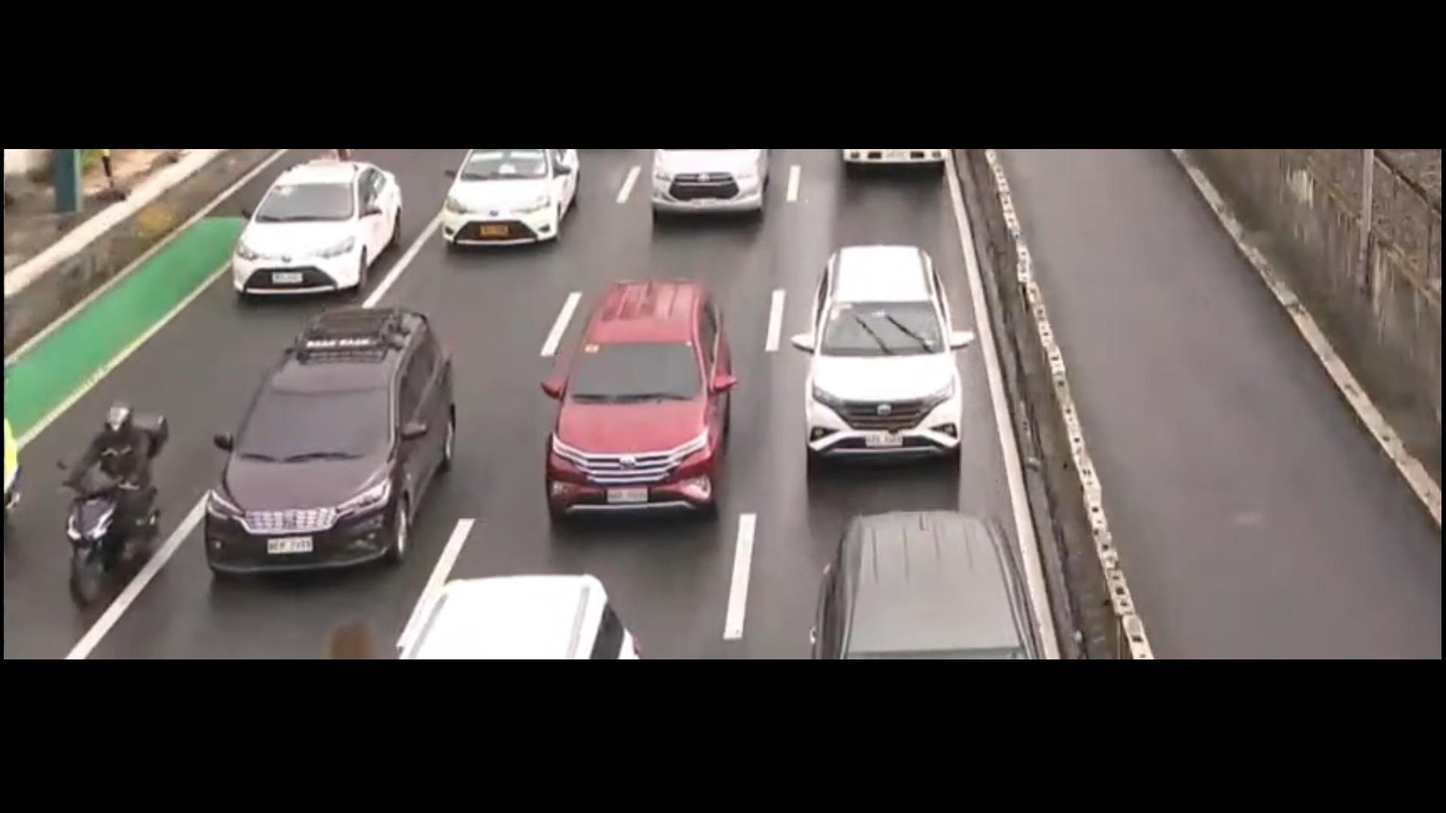Motorcycle: (52, 388, 192, 612)
SUV: (204, 288, 501, 583), (522, 273, 742, 530), (792, 226, 974, 485)
Sedan: (207, 160, 423, 311), (433, 148, 593, 266)
